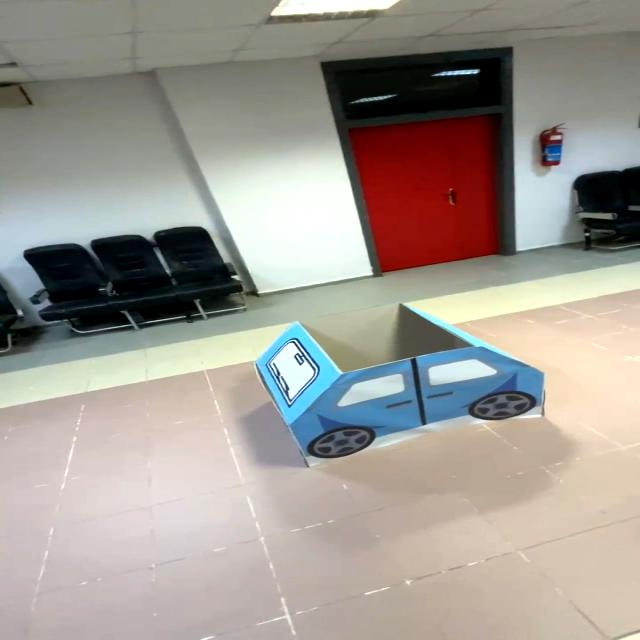blue_car: (235, 296, 565, 475)
